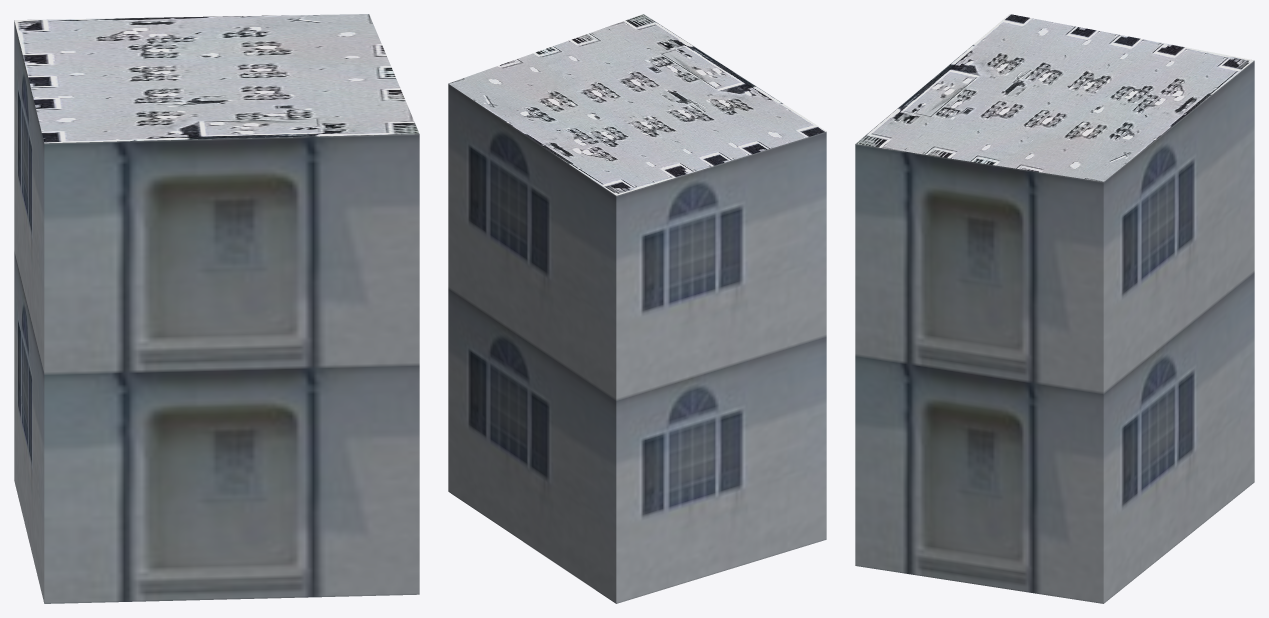
Rendered from ResTex__573.fbx.
The picture shows the model from 3 angles, left to right: view 1: azimuth 30°, elevation 25°; view 2: azimuth 150°, elevation 25°; view 3: azimuth 270°, elevation 25°; orthographic projection. The views are drawn at different scales.
Visible parts, largest first — view 1: CityEngineMaterial_17_m, CityEngineMaterial_4_m; view 2: CityEngineMaterial_17_m, CityEngineMaterial_4_m; view 3: CityEngineMaterial_17_m, CityEngineMaterial_4_m.
Part boxes in pixels (<box>): CityEngineMaterial_17_m: <box>14,21,419,603</box>; CityEngineMaterial_4_m: <box>14,14,419,143</box>; CityEngineMaterial_17_m: <box>448,84,826,603</box>; CityEngineMaterial_4_m: <box>448,14,826,195</box>; CityEngineMaterial_17_m: <box>855,61,1254,603</box>; CityEngineMaterial_4_m: <box>855,14,1254,181</box>.
Bounding box in the file's own units: 5.13 × 6 × 5.15.
Materials: 2 (2 with a texture image).
